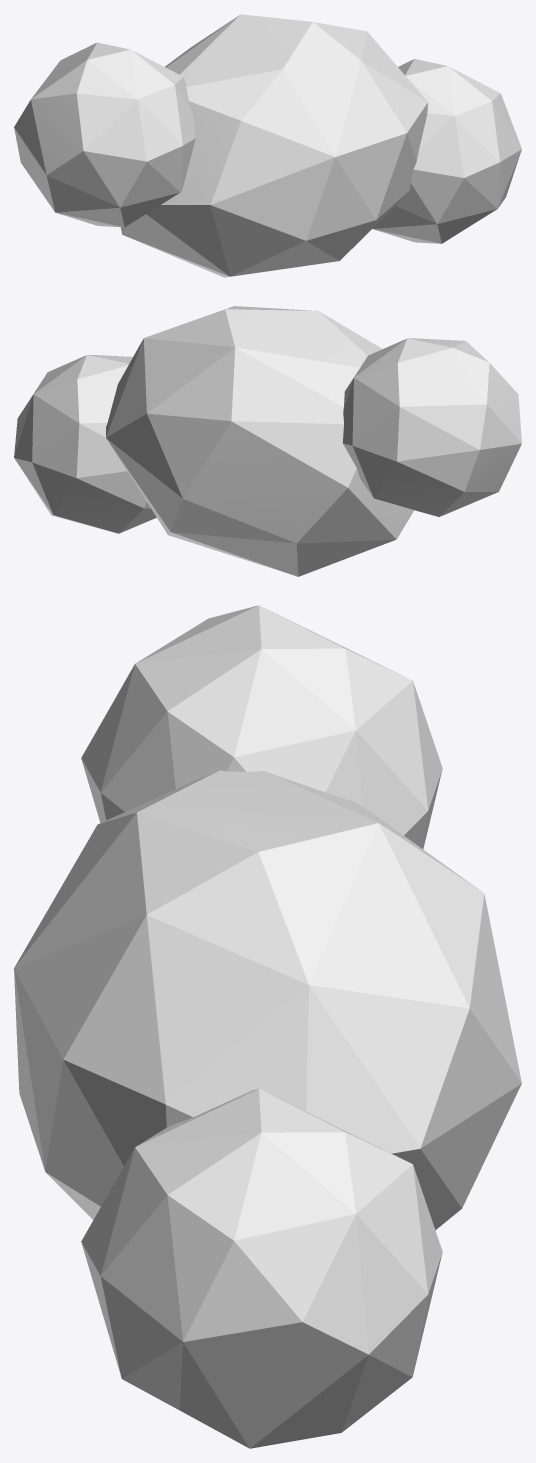
File: cloud_11.fbx
3 views of the same model, one above another, from view 1: azimuth 30°, elevation 25°; view 2: azimuth 150°, elevation 25°; view 3: azimuth 270°, elevation 25° (orthographic). The views are drawn at different scales.
Visible parts, largest first — view 1: cloud_11; view 2: cloud_11; view 3: cloud_11.
Boxes of the visible parts, left/top/right/bottom form: cloud_11: left=14, top=14, right=521, bottom=277; cloud_11: left=14, top=306, right=521, bottom=576; cloud_11: left=14, top=605, right=521, bottom=1448.
Size of the model in its own units: 677 by 356 by 323.
